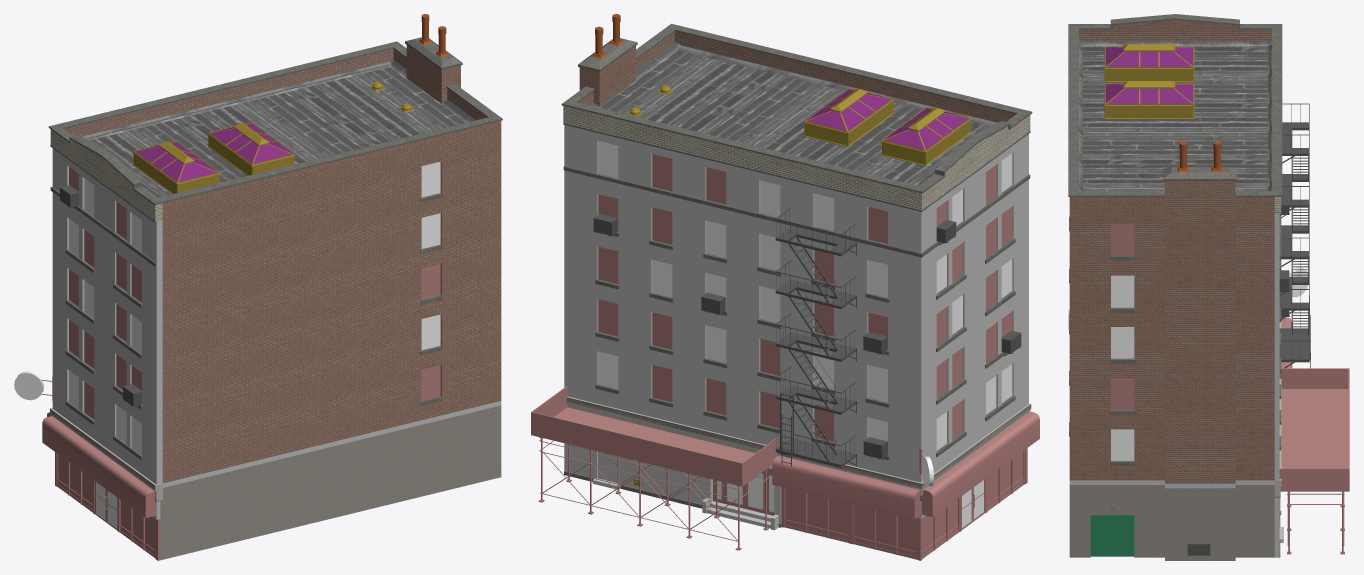
Rendered from mcp_building_09_LOD_0.FBX.
3 renders of one model, left to right at view 1: azimuth 30°, elevation 25°; view 2: azimuth 150°, elevation 25°; view 3: azimuth 270°, elevation 25°, orthographic. The views are drawn at different scales.
Parts seen in each view (by area): view 1: mcp_building_09_brick_02, mcp_building_09_brick_03, mcp_building_09_brick_01, mcp_building_09_rooftop, mcp_building_09, mcp_building_09_concrete_02, mcp_building_09_props_02, mcp_building_09_illumination, mcp_building_09_concrete_03, mcp_building_09_concrete_04, mcp_building_09_props_01; view 2: mcp_building_09_brick_01, mcp_building_09, mcp_building_09_rooftop, mcp_building_09_concrete_02, mcp_building_09_illumination, mcp_building_09_props_01, mcp_building_09_props_02, mcp_building_09_brick_02, mcp_building_09_concrete_04, mcp_building_09_marble, mcp_building_09_concrete_01; view 3: mcp_building_09_brick_02, mcp_building_09_rooftop, mcp_building_09_brick_03, mcp_building_09, mcp_building_09_concrete_02, mcp_building_09_props_02, mcp_building_09_props_01, mcp_building_09_illumination, mcp_building_09_door_02, mcp_building_09_brick_01, mcp_building_09_concrete_03, mcp_building_09_props_03 (+2 smaller).
Boxes of the visible parts, x1,y1,x2,y2 form: mcp_building_09_brick_02: [65, 45, 501, 483]; mcp_building_09_brick_03: [160, 405, 501, 560]; mcp_building_09_brick_01: [50, 129, 162, 484]; mcp_building_09_rooftop: [81, 60, 475, 197]; mcp_building_09: [41, 167, 440, 560]; mcp_building_09_concrete_02: [48, 37, 502, 459]; mcp_building_09_props_02: [132, 82, 414, 194]; mcp_building_09_illumination: [14, 161, 440, 527]; mcp_building_09_concrete_03: [163, 401, 501, 487]; mcp_building_09_concrete_04: [50, 408, 162, 502]; mcp_building_09_props_01: [60, 185, 141, 408]; mcp_building_09_brick_01: [563, 106, 1030, 482]; mcp_building_09: [531, 154, 1039, 560]; mcp_building_09_rooftop: [590, 42, 997, 185]; mcp_building_09_concrete_02: [561, 23, 1032, 527]; mcp_building_09_illumination: [598, 141, 1012, 527]; mcp_building_09_props_01: [593, 207, 1021, 467]; mcp_building_09_props_02: [614, 85, 971, 486]; mcp_building_09_brick_02: [578, 31, 1015, 122]; mcp_building_09_concrete_04: [566, 396, 1031, 500]; mcp_building_09_marble: [564, 443, 925, 523]; mcp_building_09_concrete_01: [592, 478, 778, 530]; mcp_building_09_brick_02: [1069, 20, 1274, 483]; mcp_building_09_rooftop: [1079, 40, 1271, 191]; mcp_building_09_brick_03: [1069, 485, 1274, 560]; mcp_building_09: [1111, 223, 1349, 554]; mcp_building_09_concrete_02: [1068, 14, 1282, 557]; mcp_building_09_props_02: [1104, 44, 1281, 516]; mcp_building_09_props_01: [1110, 103, 1310, 555]; mcp_building_09_illumination: [1111, 267, 1308, 460]; mcp_building_09_door_02: [1090, 515, 1134, 556]; mcp_building_09_brick_01: [1274, 197, 1281, 480]; mcp_building_09_concrete_03: [1069, 480, 1274, 488]; mcp_building_09_props_03: [1177, 141, 1222, 172].
Bounding box in the file's own units: 2762 × 2862 × 1760.
